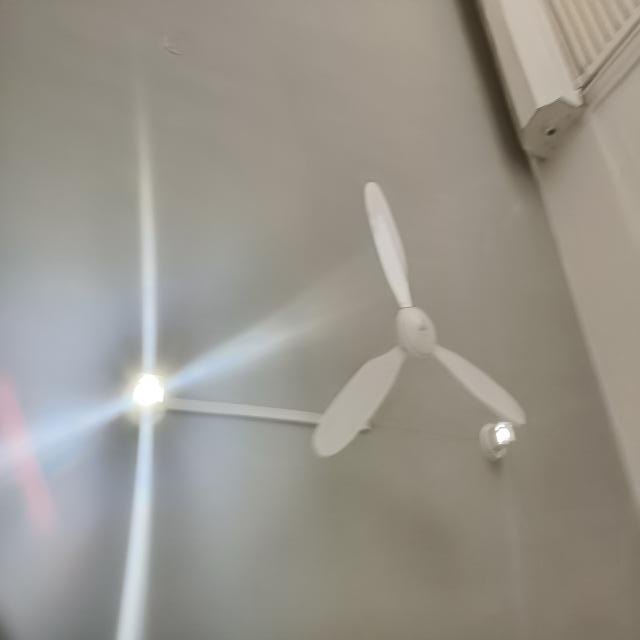fluorescent tube: (108, 307, 193, 457), (472, 375, 526, 508)
